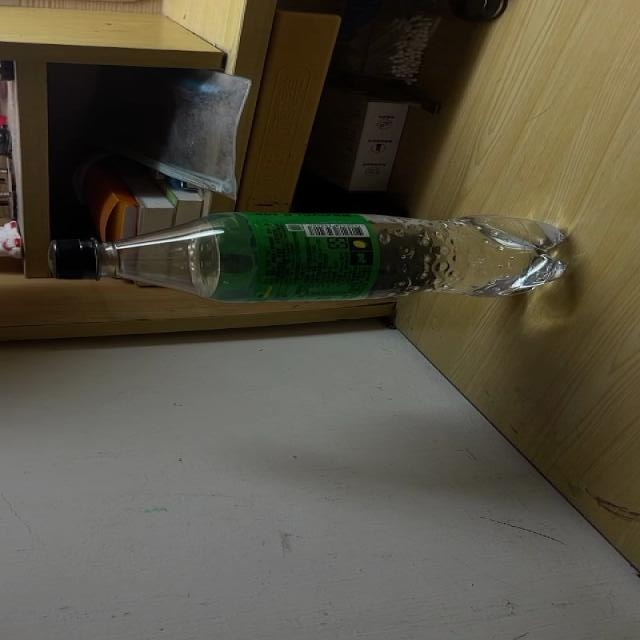Sprite: (46, 212, 565, 302)
